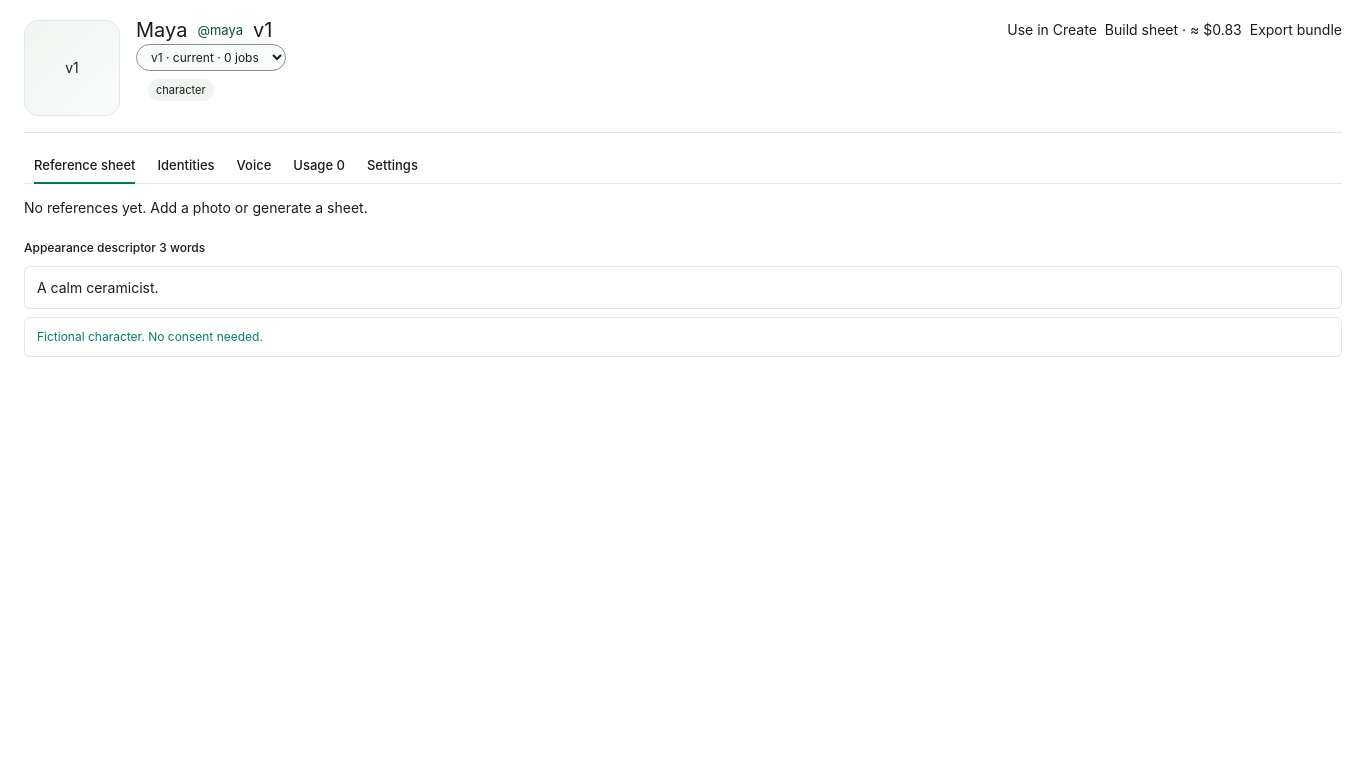
Test: Build sheet on the Character page (F-112, F-CHR-04) › carries the sheet price and opens the prefilled intake instead of starting a run
Click the button with class "character-build-sheet". click: click(1173, 30)
box: [1105,20,1242,40]
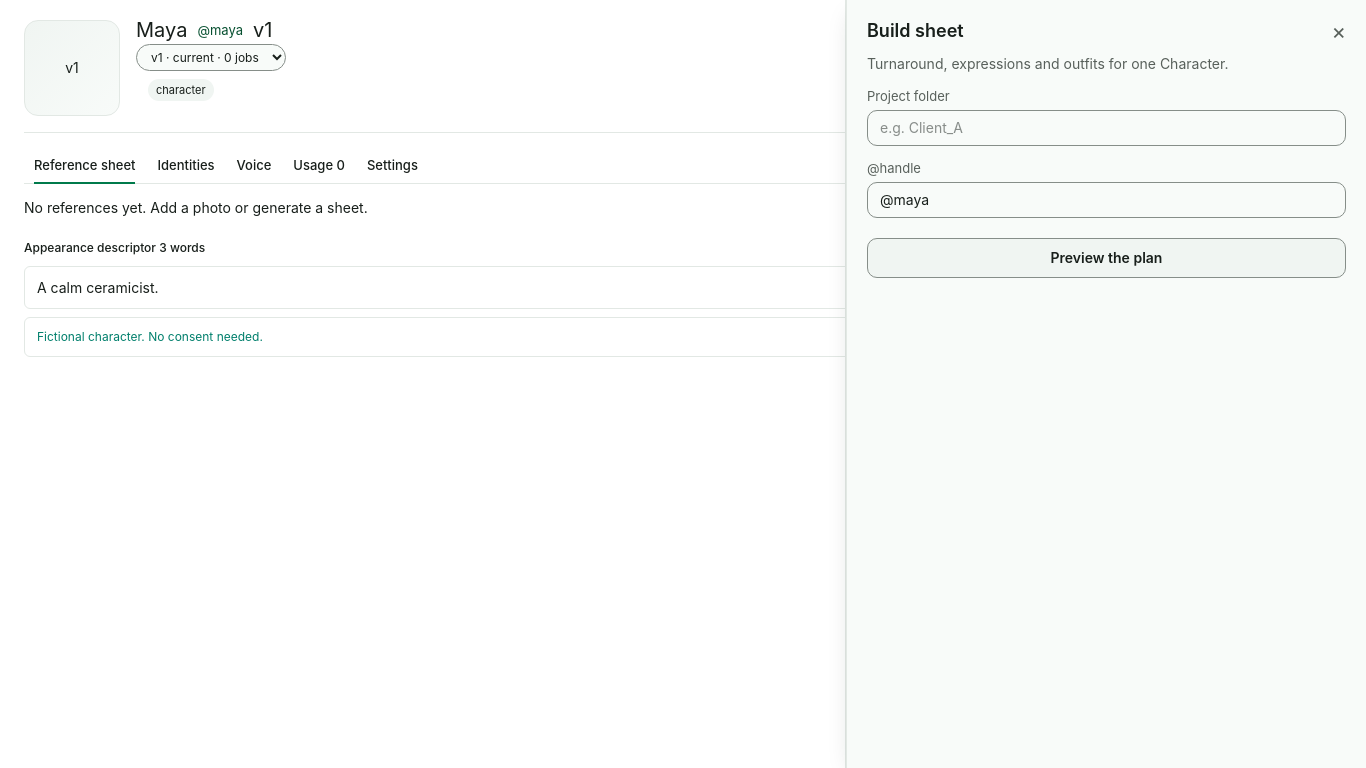
Now the field labelled "@handle" holds "@maya", box [867,182,1346,218]
